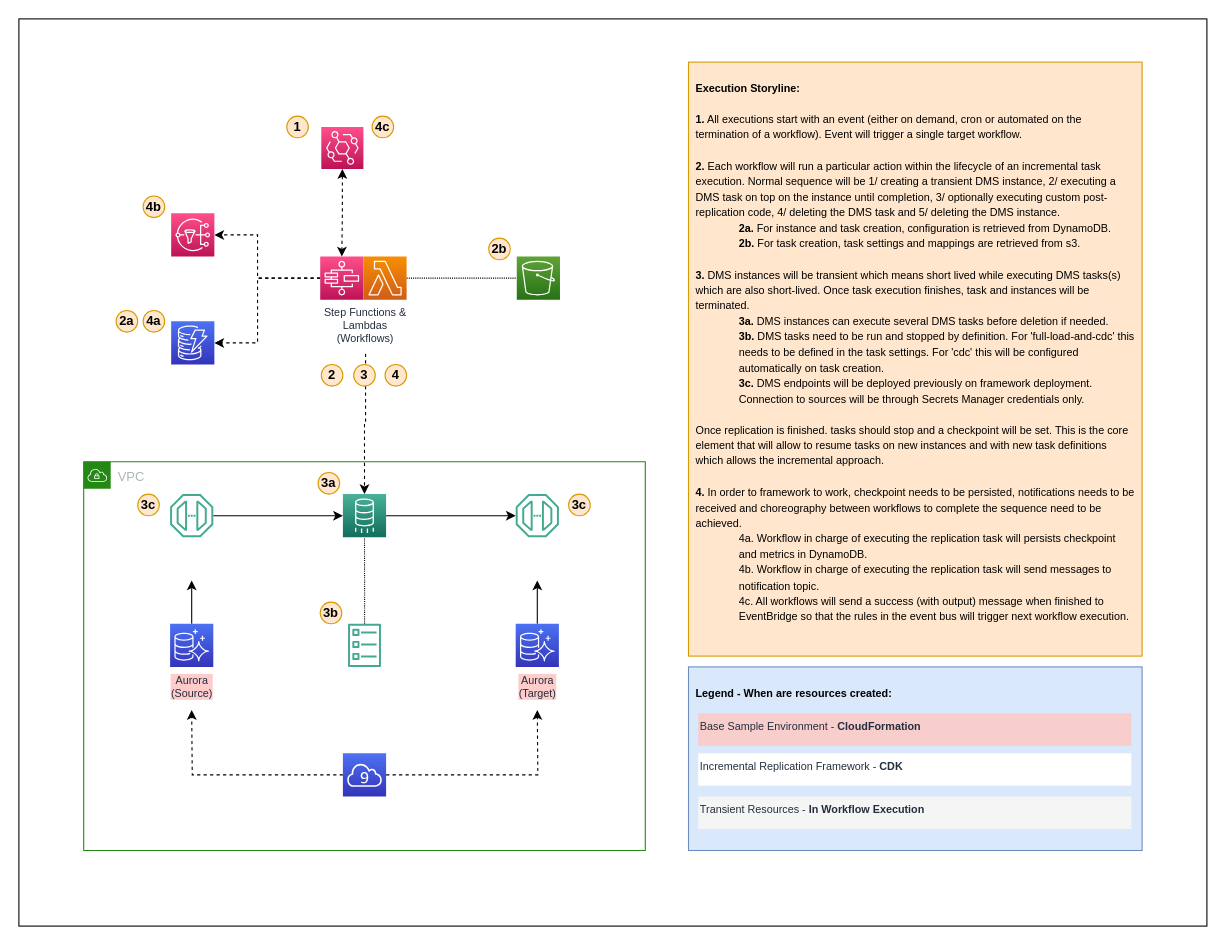
Some shapes in this 1226 by 945 pixel diagram are drawn without their labels. The shapes that lost their labels are listed below. From the top down, each one's centre as x and y in pixels, then its label:
At point (341, 147): "EventBridge (Events)".
At point (192, 234): "SNS (Notification)".
At point (538, 277): "S3 (Artifacts)".
At point (192, 342): "DynamoDB (Job & Instance Config Metrics Checkpoints)".
At point (191, 515): "DMS Endpoint (Sources)".
At point (364, 515): "DMS Instance".
At point (536, 515): "DMS Endpoint (Targets)".
At point (364, 644): "DMS Task".
At point (364, 774): "Cloud9 (DB Client)".
